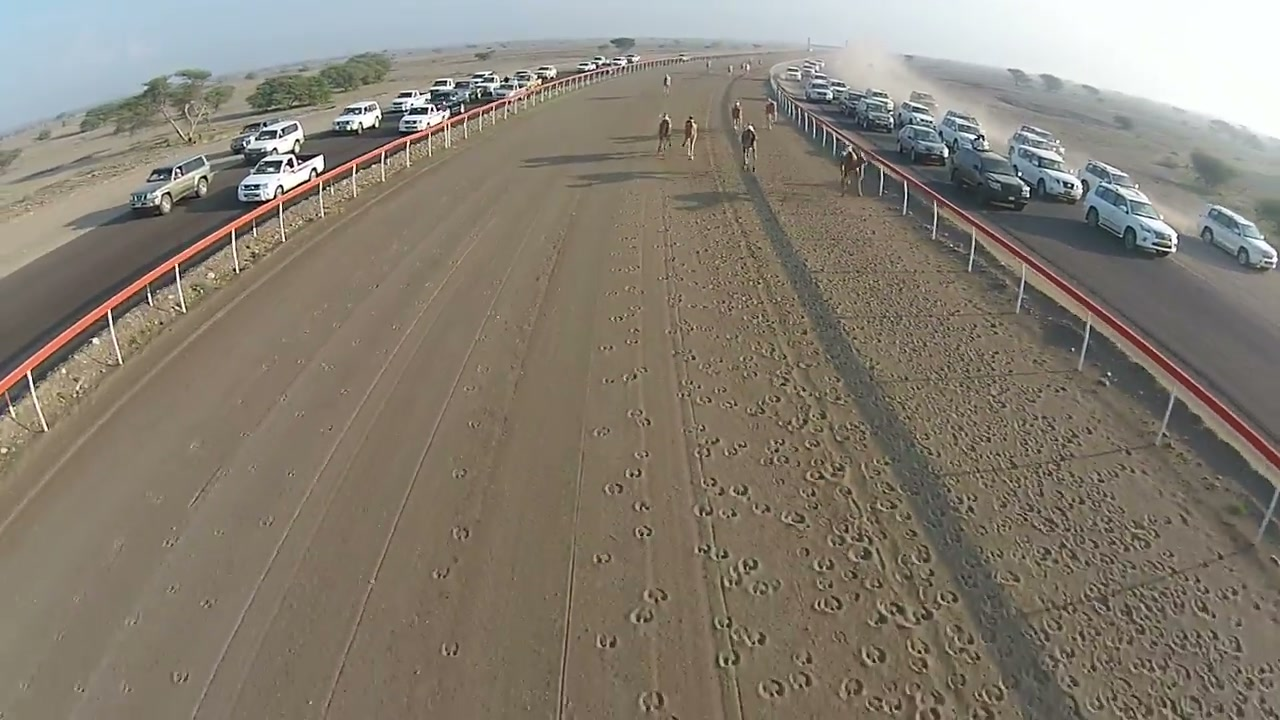animal_foot_print: (679, 243, 945, 717), (738, 506, 937, 711), (957, 478, 1231, 626), (715, 477, 864, 715), (1022, 588, 1277, 716), (681, 351, 781, 534), (592, 397, 663, 546), (984, 523, 1140, 584), (967, 412, 1101, 456), (708, 402, 788, 475), (831, 486, 917, 546), (618, 439, 664, 542), (1083, 686, 1224, 716), (811, 456, 864, 501), (867, 600, 935, 629), (757, 670, 814, 701), (759, 442, 805, 476), (845, 536, 887, 573), (188, 468, 226, 507), (943, 624, 980, 663), (944, 623, 979, 658), (830, 420, 874, 447), (863, 693, 906, 716), (769, 370, 801, 400), (905, 635, 932, 669), (900, 543, 934, 567), (730, 625, 767, 647), (973, 682, 1007, 705), (683, 424, 720, 445), (837, 677, 866, 701), (777, 509, 810, 530), (695, 543, 731, 562), (757, 678, 788, 700), (747, 578, 782, 597), (866, 603, 893, 627), (813, 594, 844, 614), (638, 691, 666, 713), (1039, 615, 1065, 638), (787, 669, 814, 691), (1056, 669, 1081, 692), (826, 528, 849, 552), (874, 496, 902, 515), (700, 477, 726, 497), (628, 606, 655, 624), (694, 439, 716, 460), (946, 672, 970, 691), (758, 389, 783, 407), (626, 408, 651, 426), (643, 587, 669, 604), (807, 410, 829, 430), (717, 649, 740, 668), (805, 467, 830, 484), (722, 440, 748, 456), (110, 537, 127, 561), (811, 556, 835, 573), (738, 557, 760, 575), (898, 525, 921, 542), (968, 706, 998, 719), (683, 322, 715, 334), (744, 402, 769, 417), (671, 349, 696, 364), (596, 633, 618, 650), (792, 649, 814, 666), (693, 501, 714, 517), (729, 483, 750, 499), (712, 615, 734, 630), (801, 496, 821, 512), (633, 410, 651, 427), (633, 525, 653, 540), (440, 642, 460, 657), (621, 370, 644, 383), (451, 526, 470, 541), (632, 499, 652, 513), (717, 507, 738, 520), (603, 482, 624, 495), (830, 630, 848, 645), (170, 670, 189, 684), (432, 566, 451, 580), (752, 502, 772, 515), (124, 611, 141, 626), (803, 438, 822, 450), (593, 552, 612, 564), (17, 678, 32, 693), (118, 680, 133, 695), (614, 265, 639, 274), (624, 467, 642, 479), (259, 515, 275, 528), (623, 284, 643, 294), (720, 398, 738, 409), (592, 426, 610, 437), (162, 536, 178, 548), (200, 597, 216, 609), (452, 467, 467, 479), (675, 389, 692, 399), (628, 304, 641, 317), (166, 582, 180, 594), (771, 476, 786, 487), (633, 450, 649, 460), (610, 314, 630, 322), (467, 419, 482, 429), (475, 364, 489, 374), (600, 376, 615, 384), (212, 528, 225, 537), (625, 337, 639, 345), (278, 393, 288, 404), (294, 409, 305, 418), (608, 250, 622, 257), (338, 387, 350, 395)
